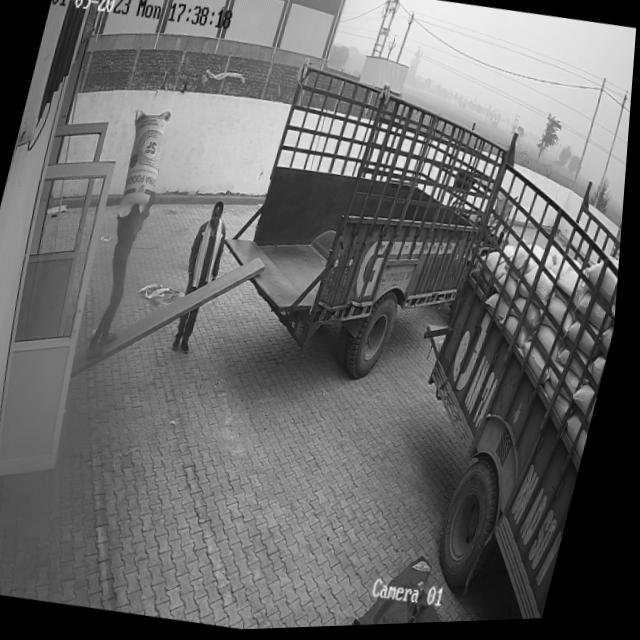sack: (111, 106, 174, 223)
